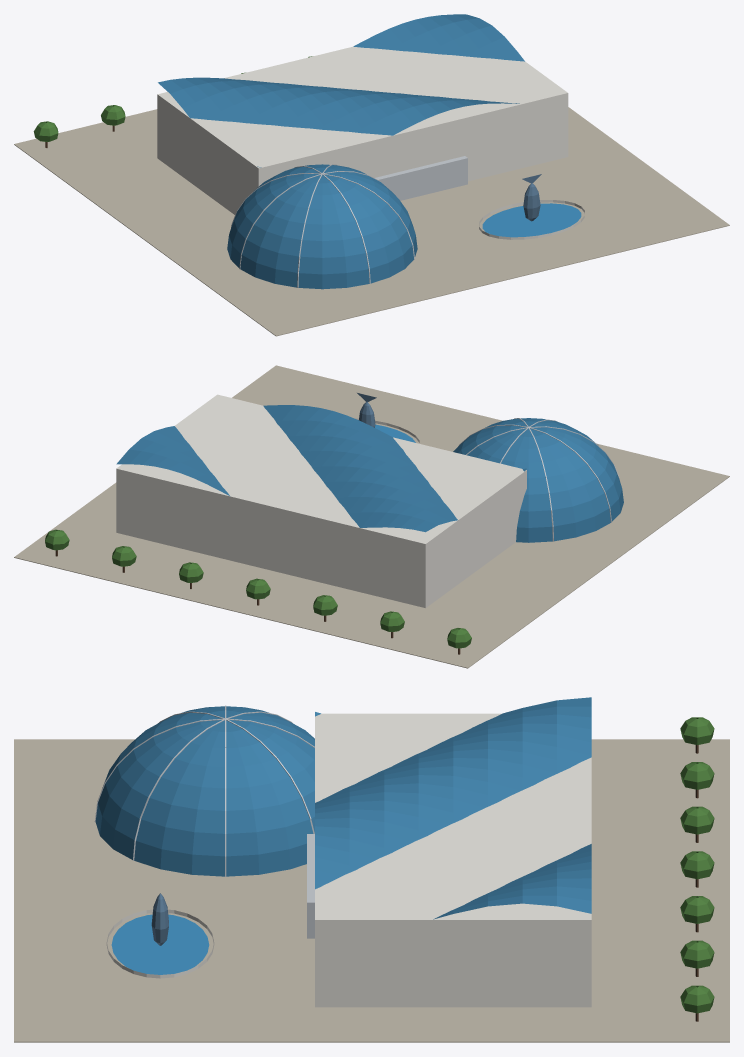
File: aquarium.glb
3 views of the same model, one above another, from view 1: azimuth 30°, elevation 25°; view 2: azimuth 150°, elevation 25°; view 3: azimuth 270°, elevation 25° (orthographic). The views are drawn at different scales.
Visible parts, largest first — view 1: Aquarium_static; view 2: Aquarium_static; view 3: Aquarium_static.
Boxes of the visible parts, x1,y1,x2,y2 form: Aquarium_static: [14, 14, 729, 336]; Aquarium_static: [14, 365, 729, 668]; Aquarium_static: [14, 697, 729, 1042].
Bounding box in the file's own units: 88 × 14.21 × 88.
